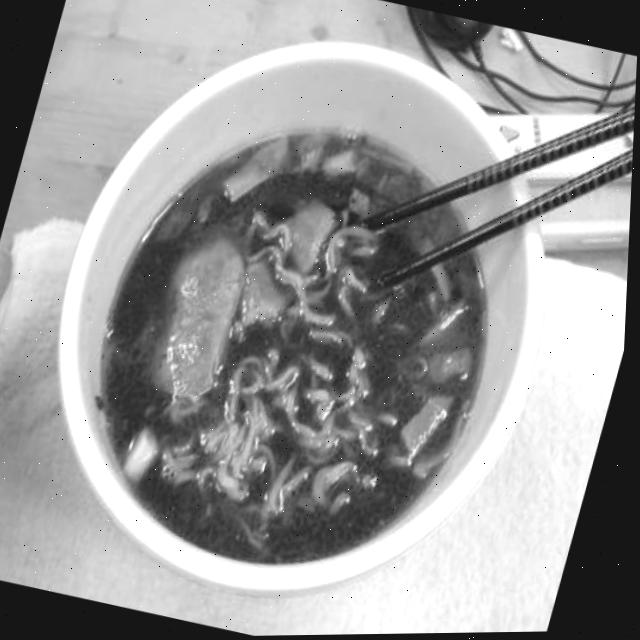面条主食: (16, 18, 572, 617)
